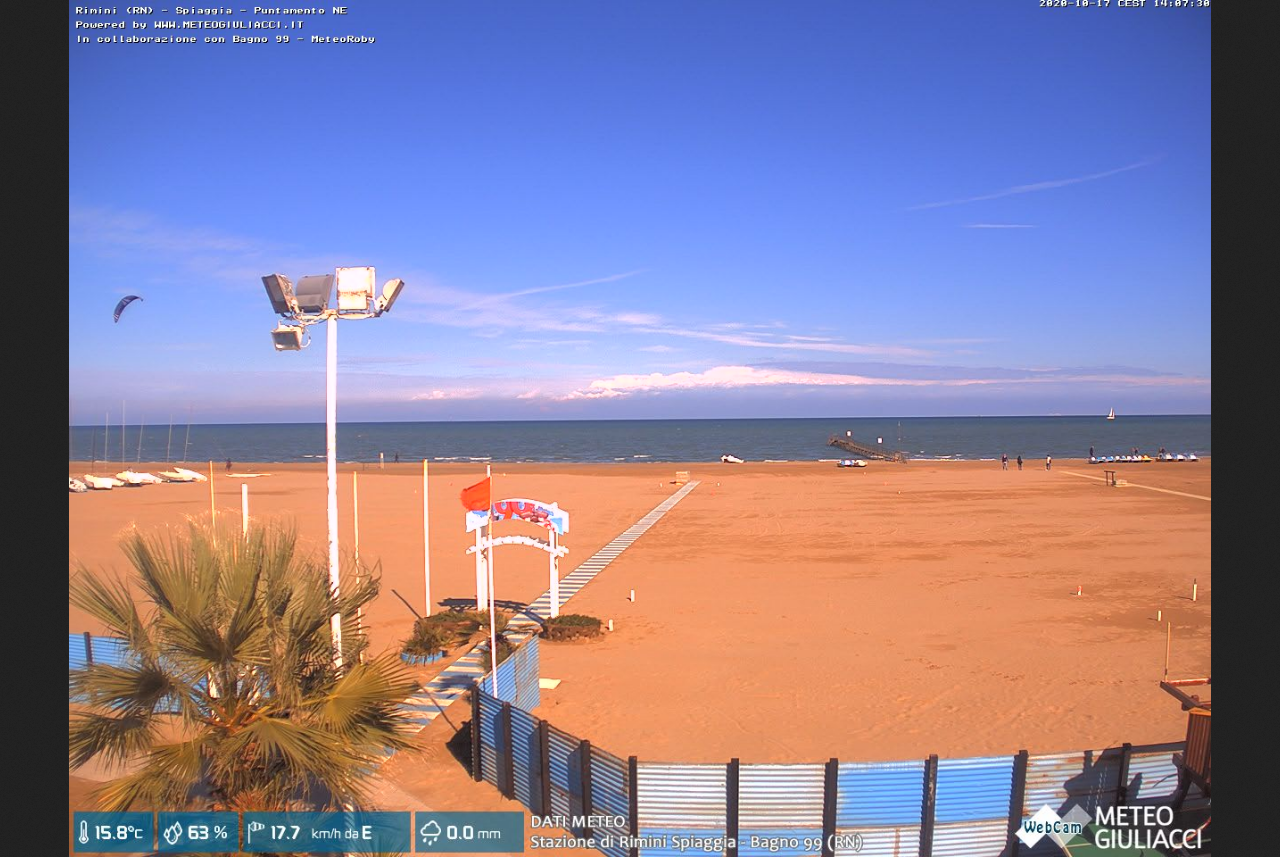yes: (458, 476, 489, 515)
